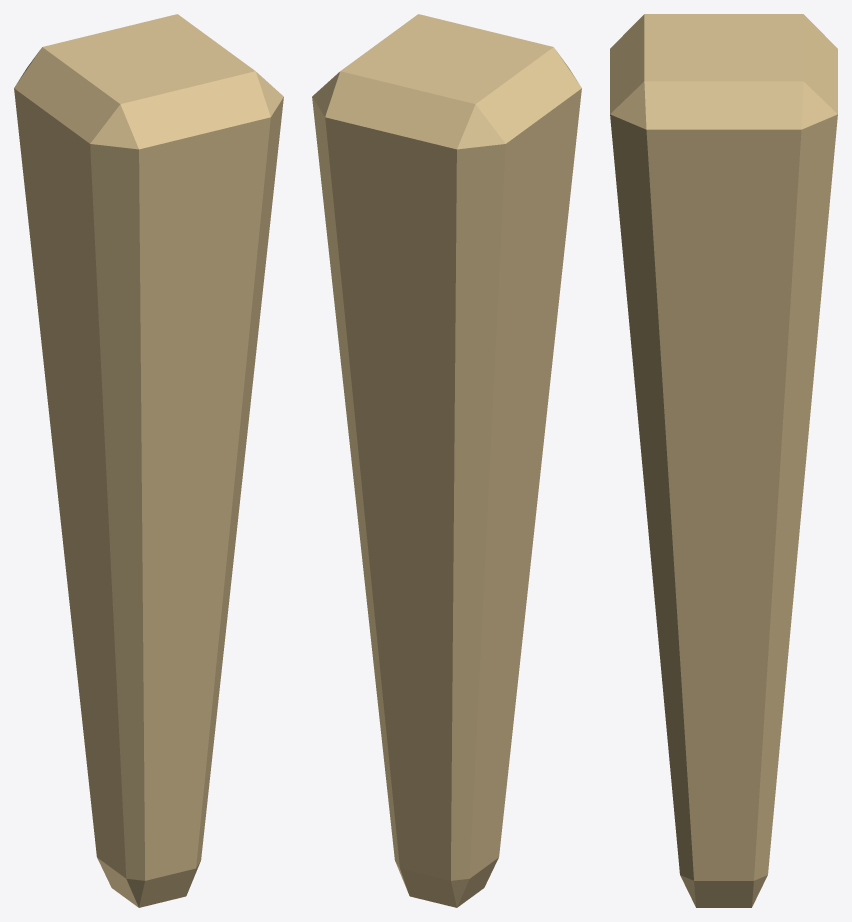
The model's file is bastion.jaw.glb.
3 views of the same model, side by side, from view 1: azimuth 30°, elevation 25°; view 2: azimuth 150°, elevation 25°; view 3: azimuth 270°, elevation 25° (orthographic).
Bounding box in the file's own units: 0.2435 × 1 × 0.2435.
